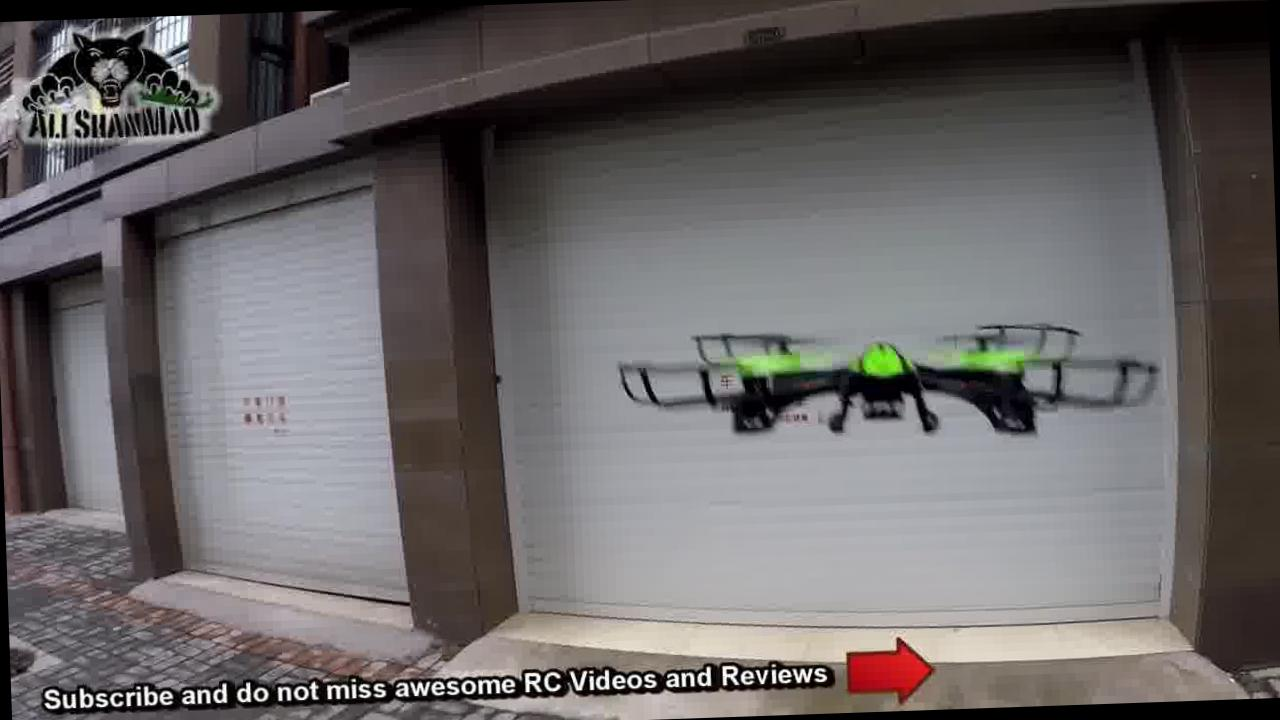drone: (640, 308, 1170, 445)
